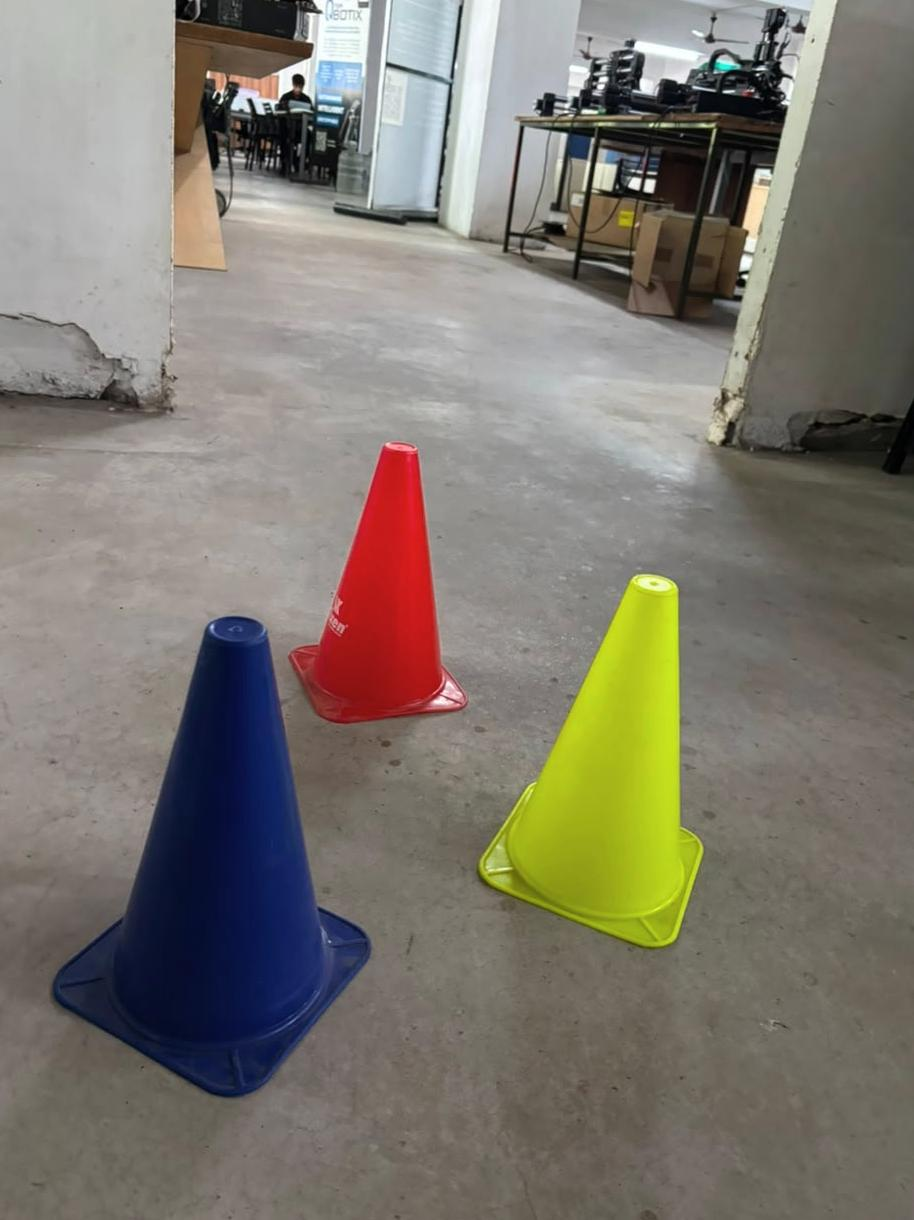0 cone: (54, 617, 370, 1096), (478, 574, 702, 947), (290, 443, 465, 722)
